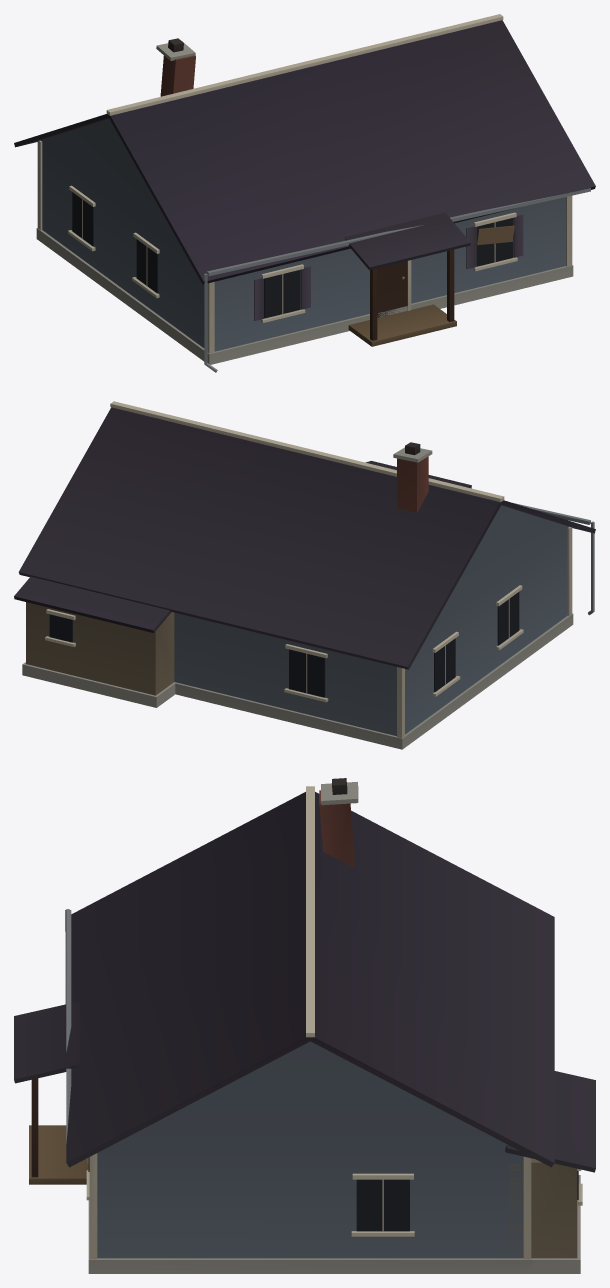
The model's file is shell_starter.glb.
The picture shows the model from 3 angles, top to bottom: view 1: azimuth 30°, elevation 25°; view 2: azimuth 150°, elevation 25°; view 3: azimuth 270°, elevation 25°; orthographic projection. The views are drawn at different scales.
Visible parts, largest first — view 1: shell_starter; view 2: shell_starter; view 3: shell_starter.
Boxes of the visible parts, x1,y1,x2,y2 form: shell_starter: (14, 14, 595, 372); shell_starter: (14, 401, 595, 749); shell_starter: (14, 778, 595, 1273).
Bounding box in the file's own units: 12.04 × 6.93 × 11.99.
